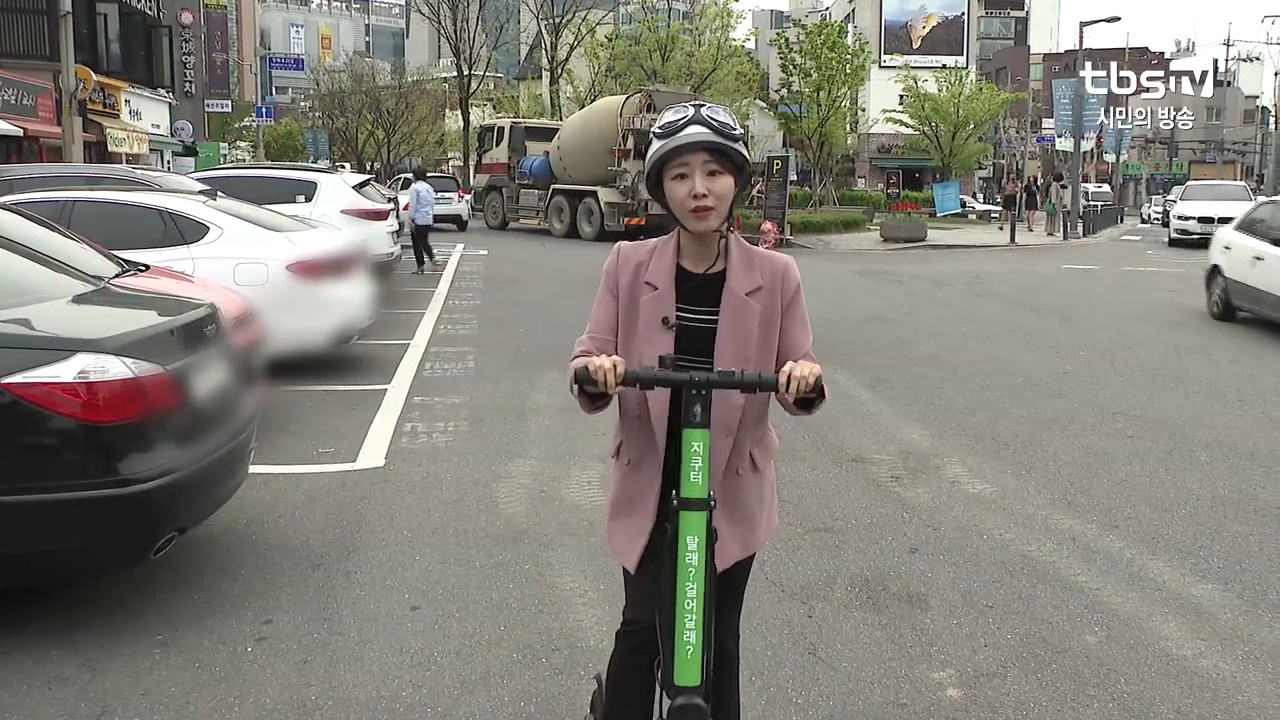helmet: (566, 99, 830, 720)
